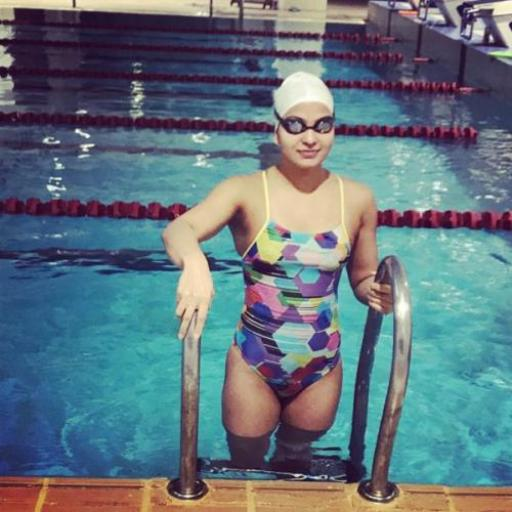swimming: (159, 70, 395, 475)
